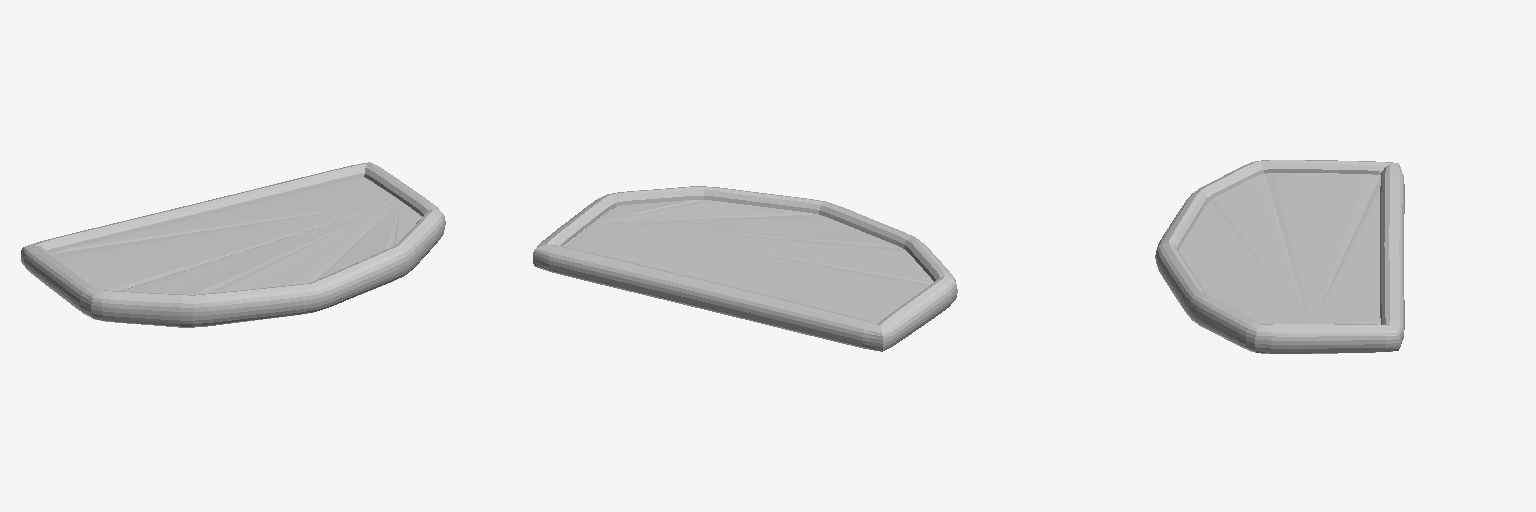
File: MeterHL.obj
3 renders of one model, left to right at view 1: azimuth 30°, elevation 25°; view 2: azimuth 150°, elevation 25°; view 3: azimuth 270°, elevation 25°, orthographic.
Parts seen in each view (by area): view 1: Cube; view 2: Cube; view 3: Cube.
Boxes of the visible parts, x1,y1,x2,y2 form: Cube: [21, 162, 445, 327]; Cube: [533, 186, 957, 351]; Cube: [1155, 160, 1404, 353].
Size of the model in its own units: 4.29 by 0.342 by 2.57.